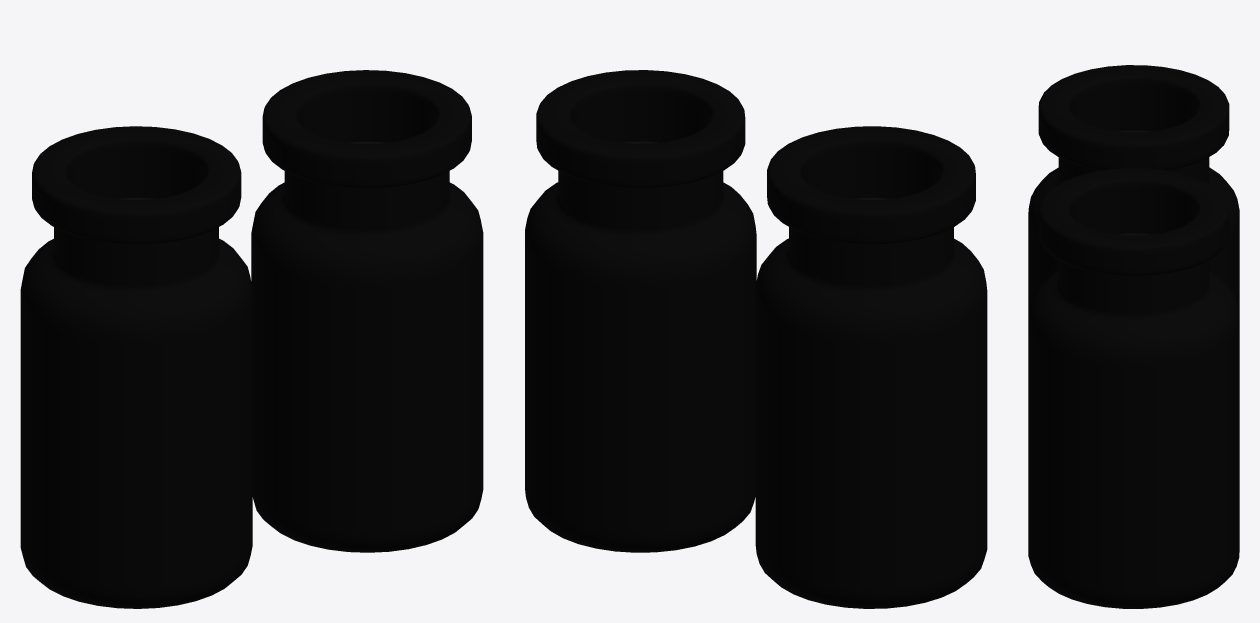
File: SARS_CoV_2_Vaccine.fbx
3 views of the same model, side by side, from view 1: azimuth 30°, elevation 25°; view 2: azimuth 150°, elevation 25°; view 3: azimuth 270°, elevation 25° (orthographic). The views are drawn at different scales.
Visible parts, largest first — view 1: SARS_CoV_2_Vaccine_Red, SARS_CoV_2_Vaccine_Blue; view 2: SARS_CoV_2_Vaccine_Red, SARS_CoV_2_Vaccine_Blue; view 3: SARS_CoV_2_Vaccine_Blue, SARS_CoV_2_Vaccine_Red.
Part boxes in pixels (x1,y1,x2,y2): SARS_CoV_2_Vaccine_Red: (20, 126, 252, 608); SARS_CoV_2_Vaccine_Blue: (251, 70, 483, 552); SARS_CoV_2_Vaccine_Red: (755, 126, 987, 608); SARS_CoV_2_Vaccine_Blue: (525, 70, 756, 552); SARS_CoV_2_Vaccine_Blue: (1028, 168, 1239, 608); SARS_CoV_2_Vaccine_Red: (1028, 65, 1239, 314).
Size of the model in its own units: 5.12 by 4.96 by 2.45.
3 materials, 3 textured.
